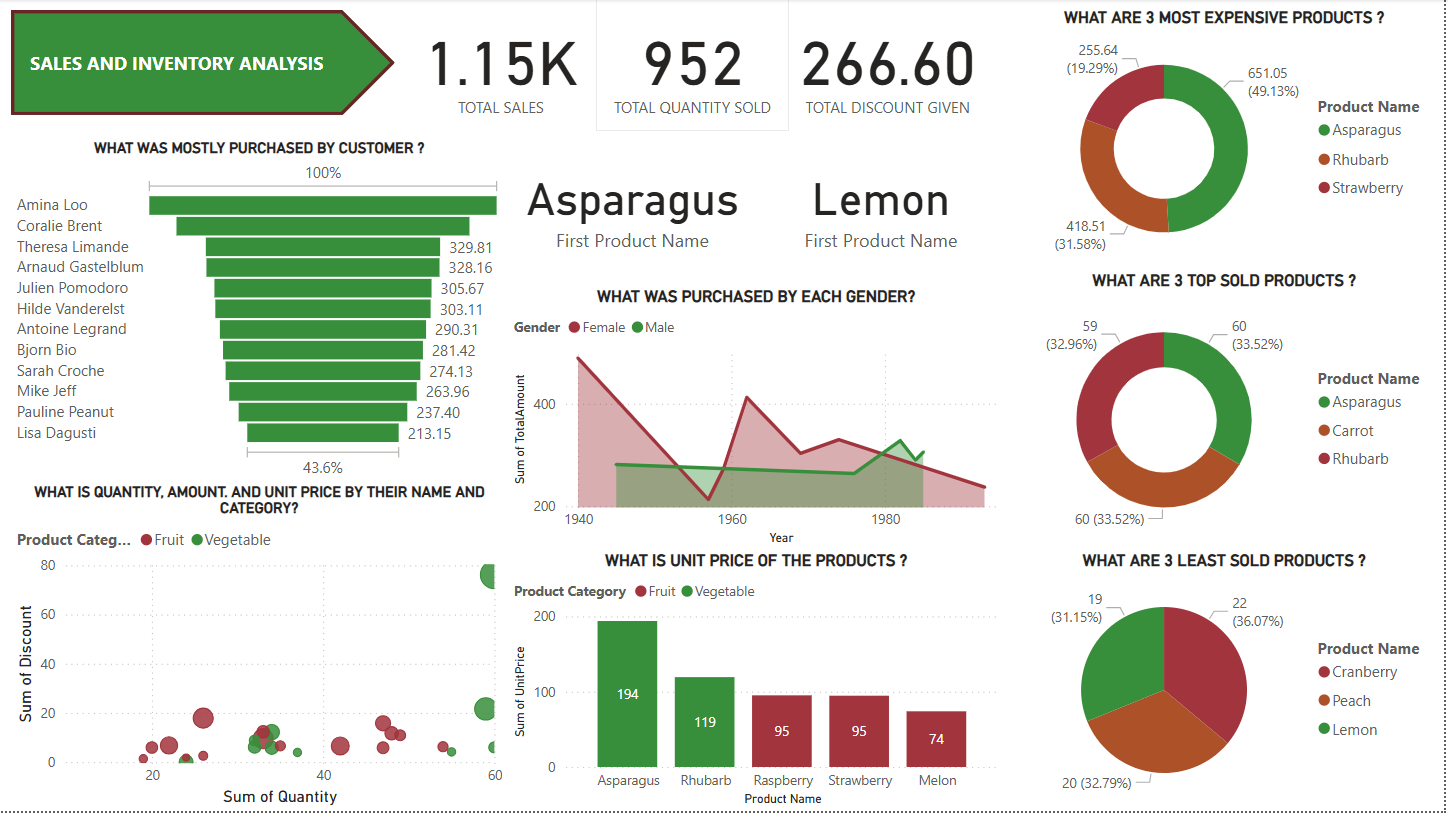

The page's visual inventory and layout, read from the dashboard file:
{"tool":"powerbi","page":{"name":"SALES AND INVENTORY","canvas":[1280,720],"ordinal":0},"visuals":[{"type":"funnel","title":"WHAT WAS MOSTLY PURCHASED BY CUSTOMER ?","fields":{"Category":["Sales and Inventory data.Full Name"],"Y":["Sales and Inventory data.TotalAmount"]},"box":[9.7,124.5,440.6,304.4],"z":0},{"type":"scatterChart","title":"WHAT IS QUANTITY, AMOUNT. AND UNIT PRICE BY THEIR NAME AND CATEGORY?","fields":{"Category":["Sales and Inventory data.Product Name"],"X":["Sales and Inventory data.Quantity"],"Y":["Sales and Inventory data.Discount"],"Size":["Sales and Inventory data.UnitPrice"],"Series":["Sales and Inventory data.Product Category"]},"box":[9.7,428.9,440.6,290.8],"z":1000},{"type":"columnChart","title":"WHAT IS UNIT PRICE OF THE PRODUCTS ? ","fields":{"Category":["Sales and Inventory data.Product Name"],"Y":["Sales and Inventory data.UnitPrice"],"Series":["Sales and Inventory data.Product Category"]},"box":[450.3,489.2,440.6,230.5],"z":2000},{"type":"areaChart","title":"WHAT WAS PURCHASED BY EACH GENDER?","fields":{"Category":["Sales and Inventory data.Birthday.Variation.Date Hierarchy.Year","Sales and Inventory data.Birthday.Variation.Date Hierarchy.Quarter","Sales and Inventory data.Birthday.Variation.Date Hierarchy.Month","Sales and Inventory data.Birthday.Variation.Date Hierarchy.Day"],"Y":["Sales and Inventory data.TotalAmount"],"Series":["Sales and Inventory data.Gender"]},"box":[450.3,255.8,440.6,233.4],"z":3000},{"type":"donutChart","title":"WHAT ARE 3 TOP SOLD PRODUCTS ?","fields":{"Category":["Sales and Inventory data.Product Name"],"Y":["Sales and Inventory data.Quantity"]},"box":[890.9,241.2,389.1,248],"z":4000},{"type":"pieChart","title":"WHAT ARE 3 LEAST SOLD PRODUCTS ?","fields":{"Category":["Sales and Inventory data.Product Name"],"Y":["Sales and Inventory data.Quantity"]},"box":[890.9,489.2,389.1,230.5],"z":5000},{"type":"donutChart","title":"WHAT ARE 3 MOST EXPENSIVE PRODUCTS ?","fields":{"Category":["Sales and Inventory data.Product Name"],"Y":["Sales and Inventory data.TotalAmount"]},"box":[890.9,7.8,389.1,233.4],"z":6000},{"type":"card","fields":{"Values":["Sales and Inventory data.UnitPrice"]},"box":[359.9,0,168.3,116.7],"z":7000},{"type":"card","fields":{"Values":["Sales and Inventory data.Quantity"]},"box":[528.1,0,171.2,116.7],"z":8000},{"type":"card","fields":{"Values":["Sales and Inventory data.Discount"]},"box":[699.3,0,175.1,116.7],"z":9000},{"type":"card","fields":{"Values":["Sales and Inventory data.Product Name"]},"box":[450.3,116.7,220.8,133.3],"z":10000},{"type":"card","fields":{"Values":["Sales and Inventory data.Product Name"]},"box":[671.1,116.7,219.8,133.3],"z":11000},{"type":"shape","title":"SALES","box":[9.7,9.7,340.4,93.4],"z":12000}]}

Visuals, with their boxes in screenshot pixels (x1, y1, x2, y2), scaled from the page's 1280x720 canvas onto the 1448x815 screenshot:
"WHAT WAS MOSTLY PURCHASED BY CUSTOMER ?" funnel: (x1=11, y1=141, x2=509, y2=485)
"WHAT IS QUANTITY, AMOUNT. AND UNIT PRICE BY THEIR NAME AND CATEGORY?" scatterChart: (x1=11, y1=485, x2=509, y2=814)
"WHAT IS UNIT PRICE OF THE PRODUCTS ? " columnChart: (x1=509, y1=554, x2=1008, y2=814)
"WHAT WAS PURCHASED BY EACH GENDER?" areaChart: (x1=509, y1=290, x2=1008, y2=554)
"WHAT ARE 3 TOP SOLD PRODUCTS ?" donutChart: (x1=1008, y1=273, x2=1447, y2=554)
"WHAT ARE 3 LEAST SOLD PRODUCTS ?" pieChart: (x1=1008, y1=554, x2=1447, y2=814)
"WHAT ARE 3 MOST EXPENSIVE PRODUCTS ?" donutChart: (x1=1008, y1=9, x2=1447, y2=273)
card - Sales and Inventory data.UnitPrice: (x1=407, y1=0, x2=598, y2=132)
card - Sales and Inventory data.Quantity: (x1=597, y1=0, x2=791, y2=132)
card - Sales and Inventory data.Discount: (x1=791, y1=0, x2=989, y2=132)
card - Sales and Inventory data.Product Name: (x1=509, y1=132, x2=759, y2=283)
card - Sales and Inventory data.Product Name: (x1=759, y1=132, x2=1008, y2=283)
"SALES" shape: (x1=11, y1=11, x2=396, y2=117)
